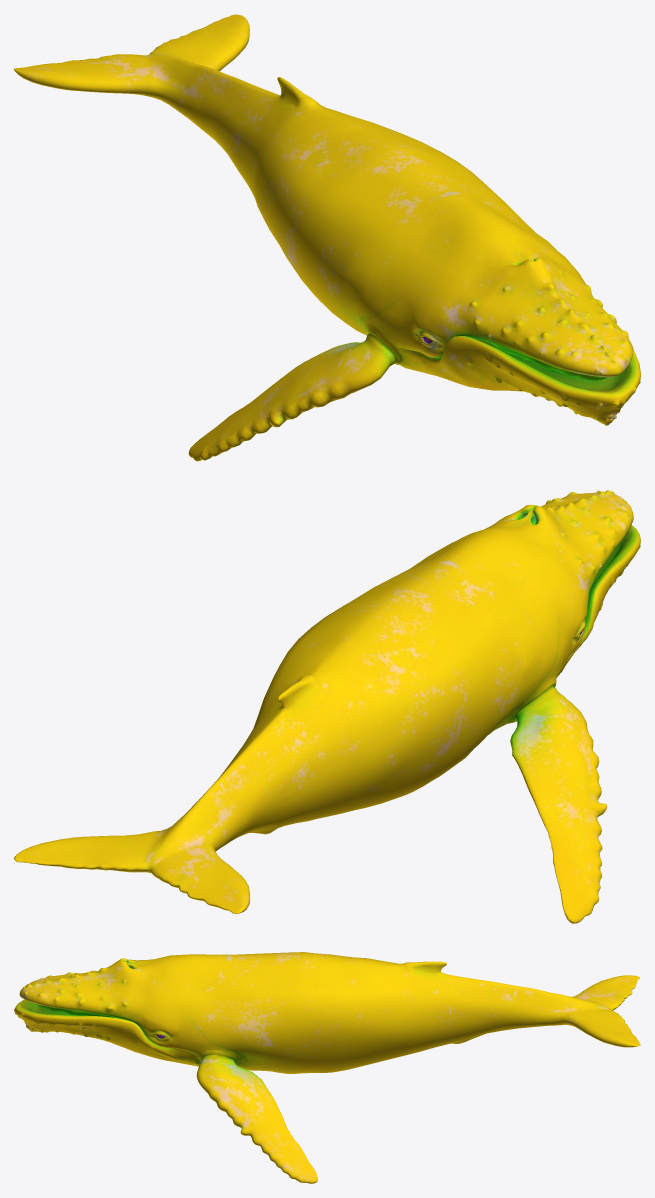
File: Humpbackwhale.glb
3 renders of one model, top to bottom at view 1: azimuth 30°, elevation 25°; view 2: azimuth 150°, elevation 25°; view 3: azimuth 270°, elevation 25°, orthographic. The views are drawn at different scales.
Visible parts, largest first — view 1: humpback_whale_LOD2.1; view 2: humpback_whale_LOD2.1; view 3: humpback_whale_LOD2.1.
Boxes of the visible parts, left/top/right/bottom form: humpback_whale_LOD2.1: left=14, top=14, right=640, bottom=461; humpback_whale_LOD2.1: left=14, top=490, right=640, bottom=923; humpback_whale_LOD2.1: left=14, top=952, right=640, bottom=1183.
Bounding box in the file's own units: 1.59 × 1.02 × 3.46.
Materials: 1 (1 with a texture image).
